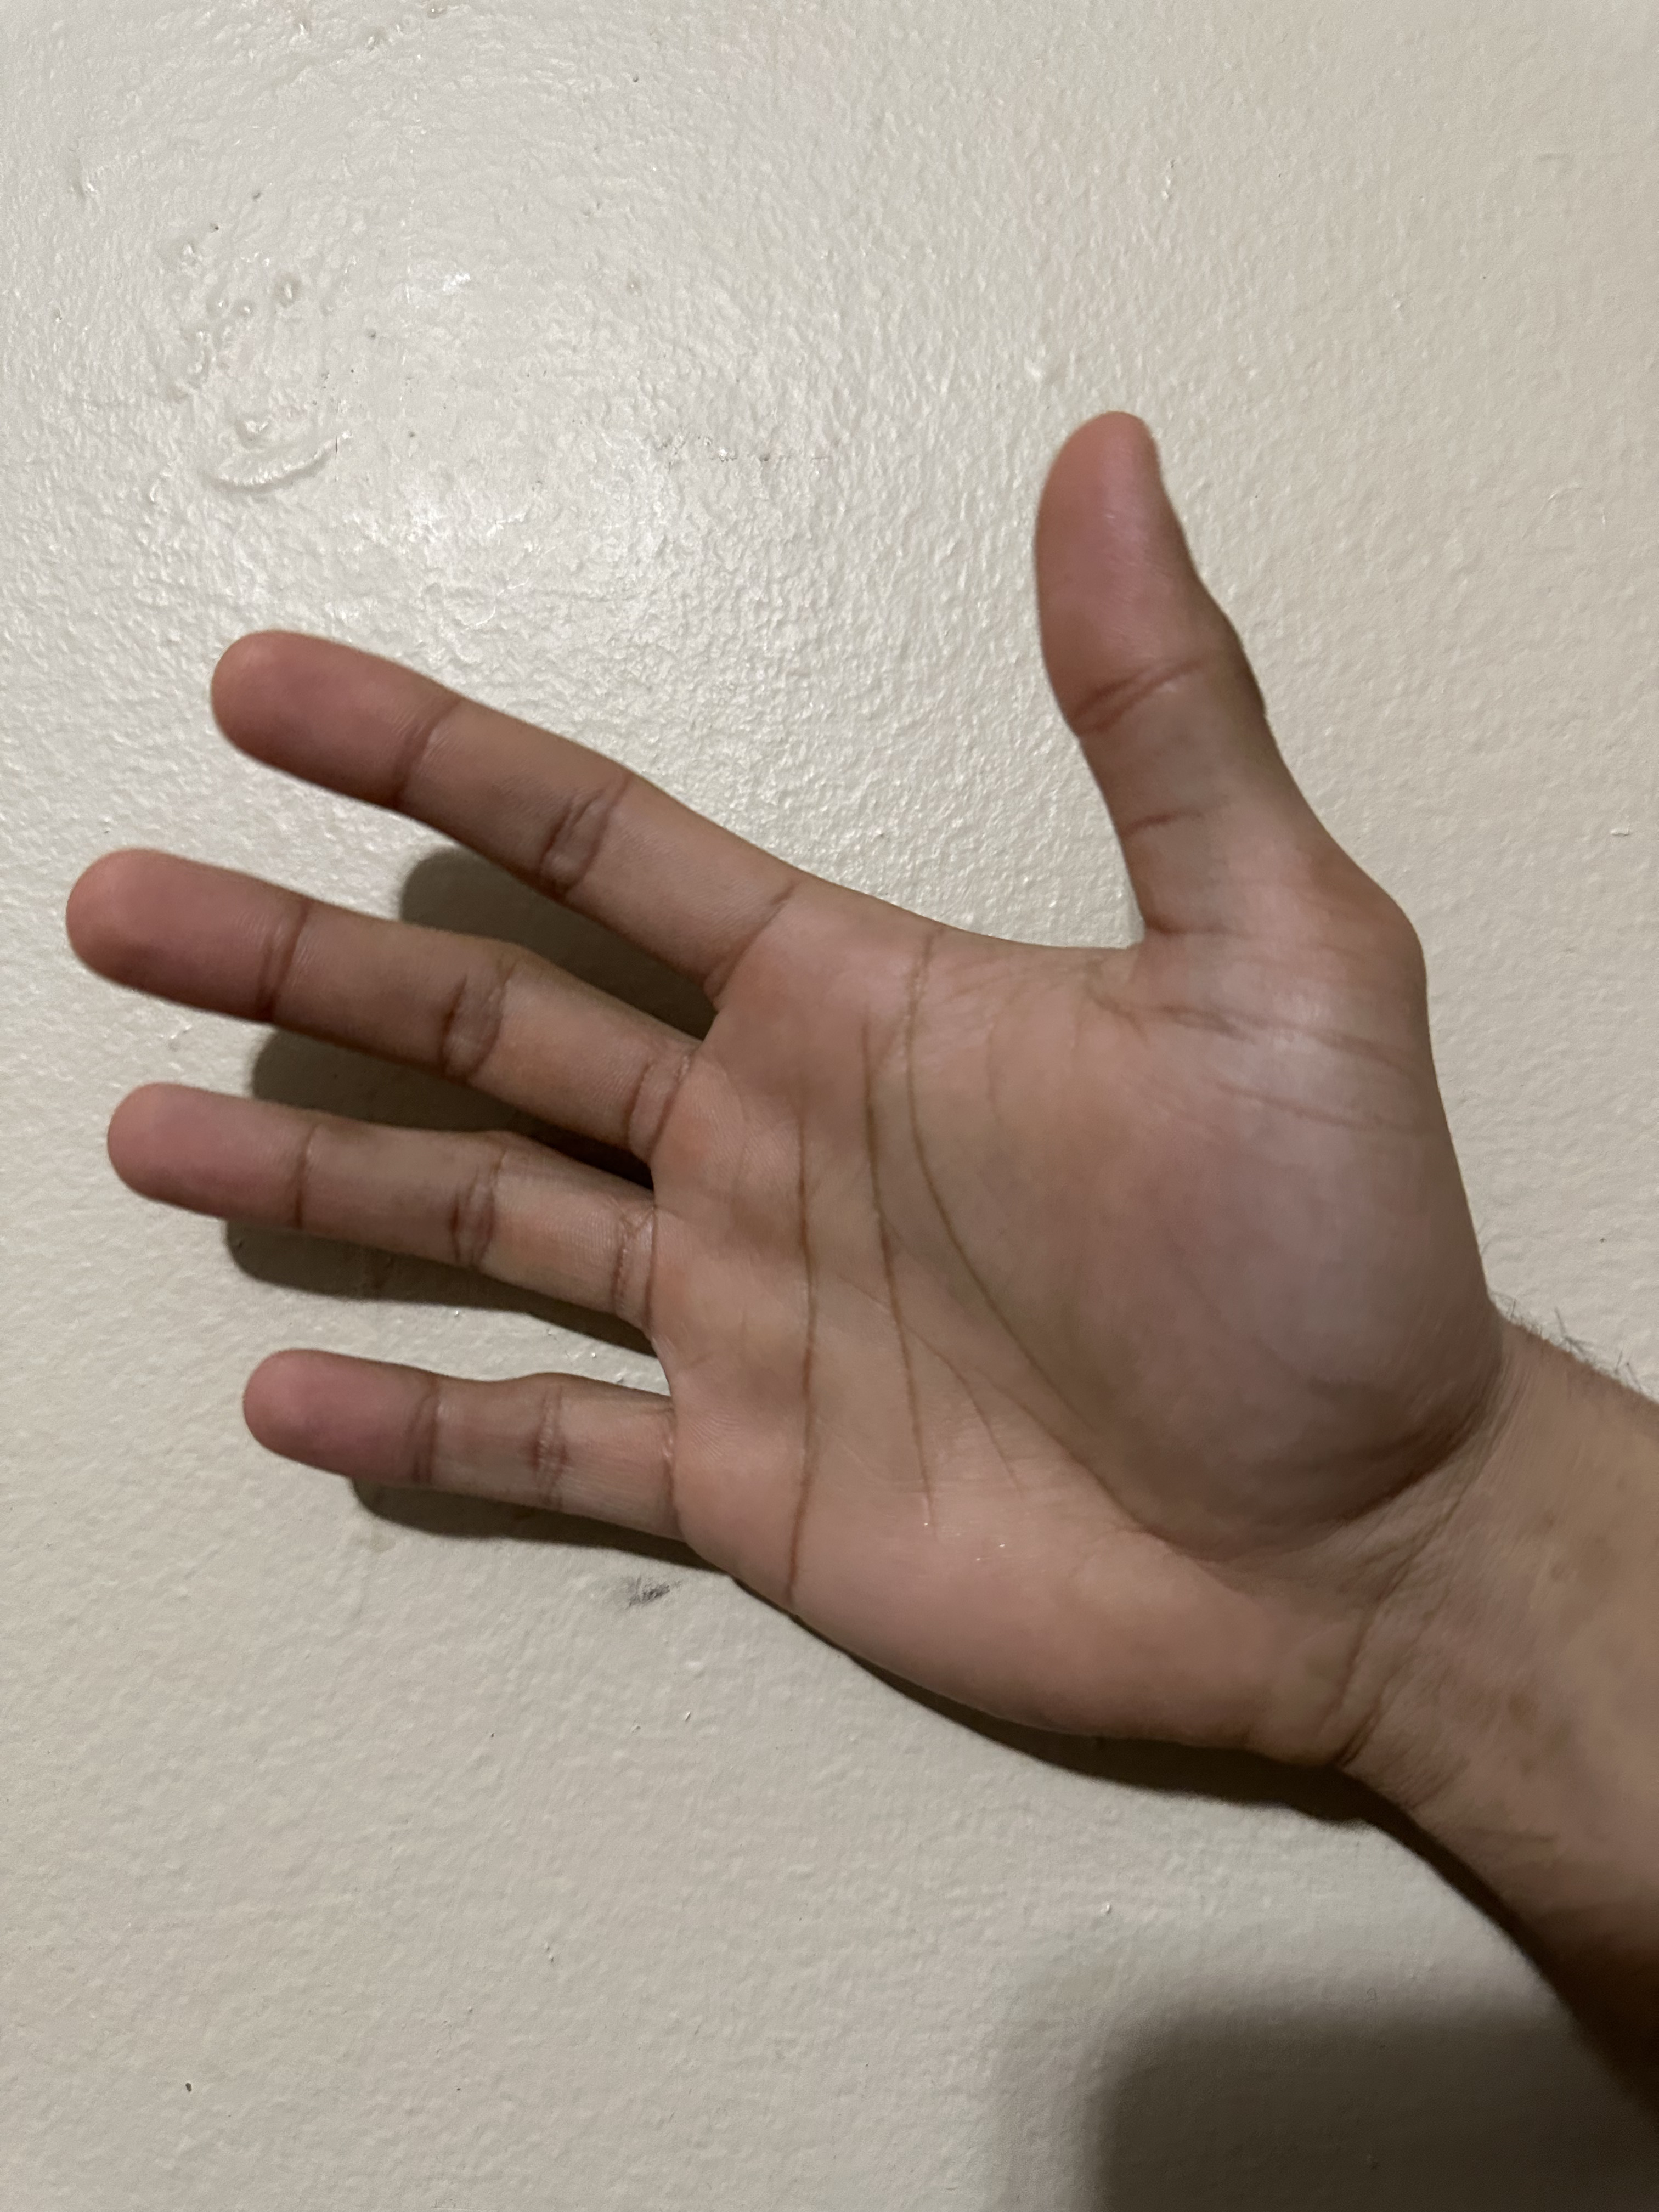finger: (1006, 376, 1246, 695), (176, 599, 471, 810), (35, 820, 300, 1031), (204, 1310, 453, 1529), (70, 1059, 319, 1258)
